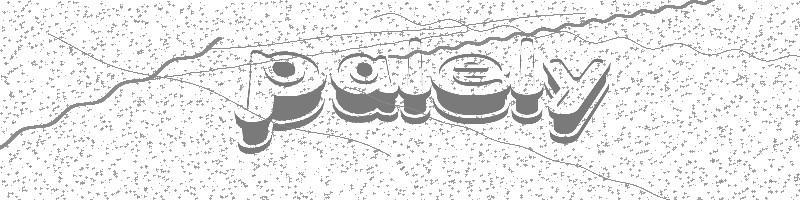a: (329, 48, 402, 124)
e: (433, 50, 511, 123)
l: (510, 37, 546, 125), (400, 35, 434, 124)
p: (233, 45, 328, 154)
y: (541, 55, 613, 144)
